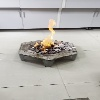fire: (34, 19, 60, 53)
